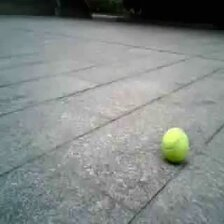tennis: (162, 127, 187, 158)
